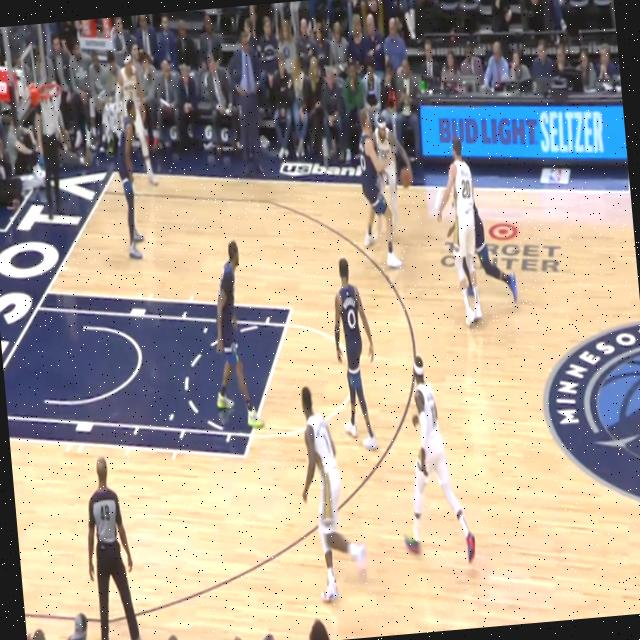Foul: (348, 96, 421, 277)
